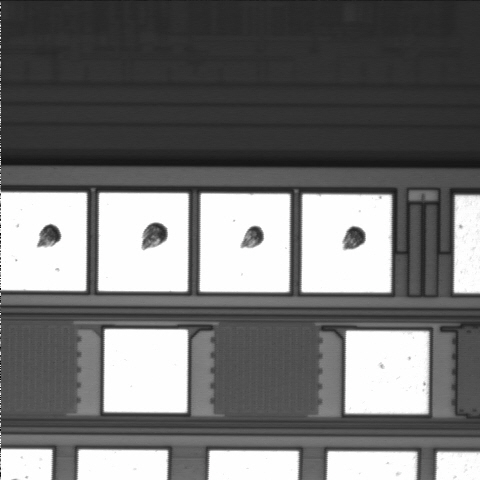pad: (98, 193, 188, 292), (200, 194, 290, 292), (302, 194, 391, 292), (104, 329, 188, 413), (345, 331, 429, 414)
